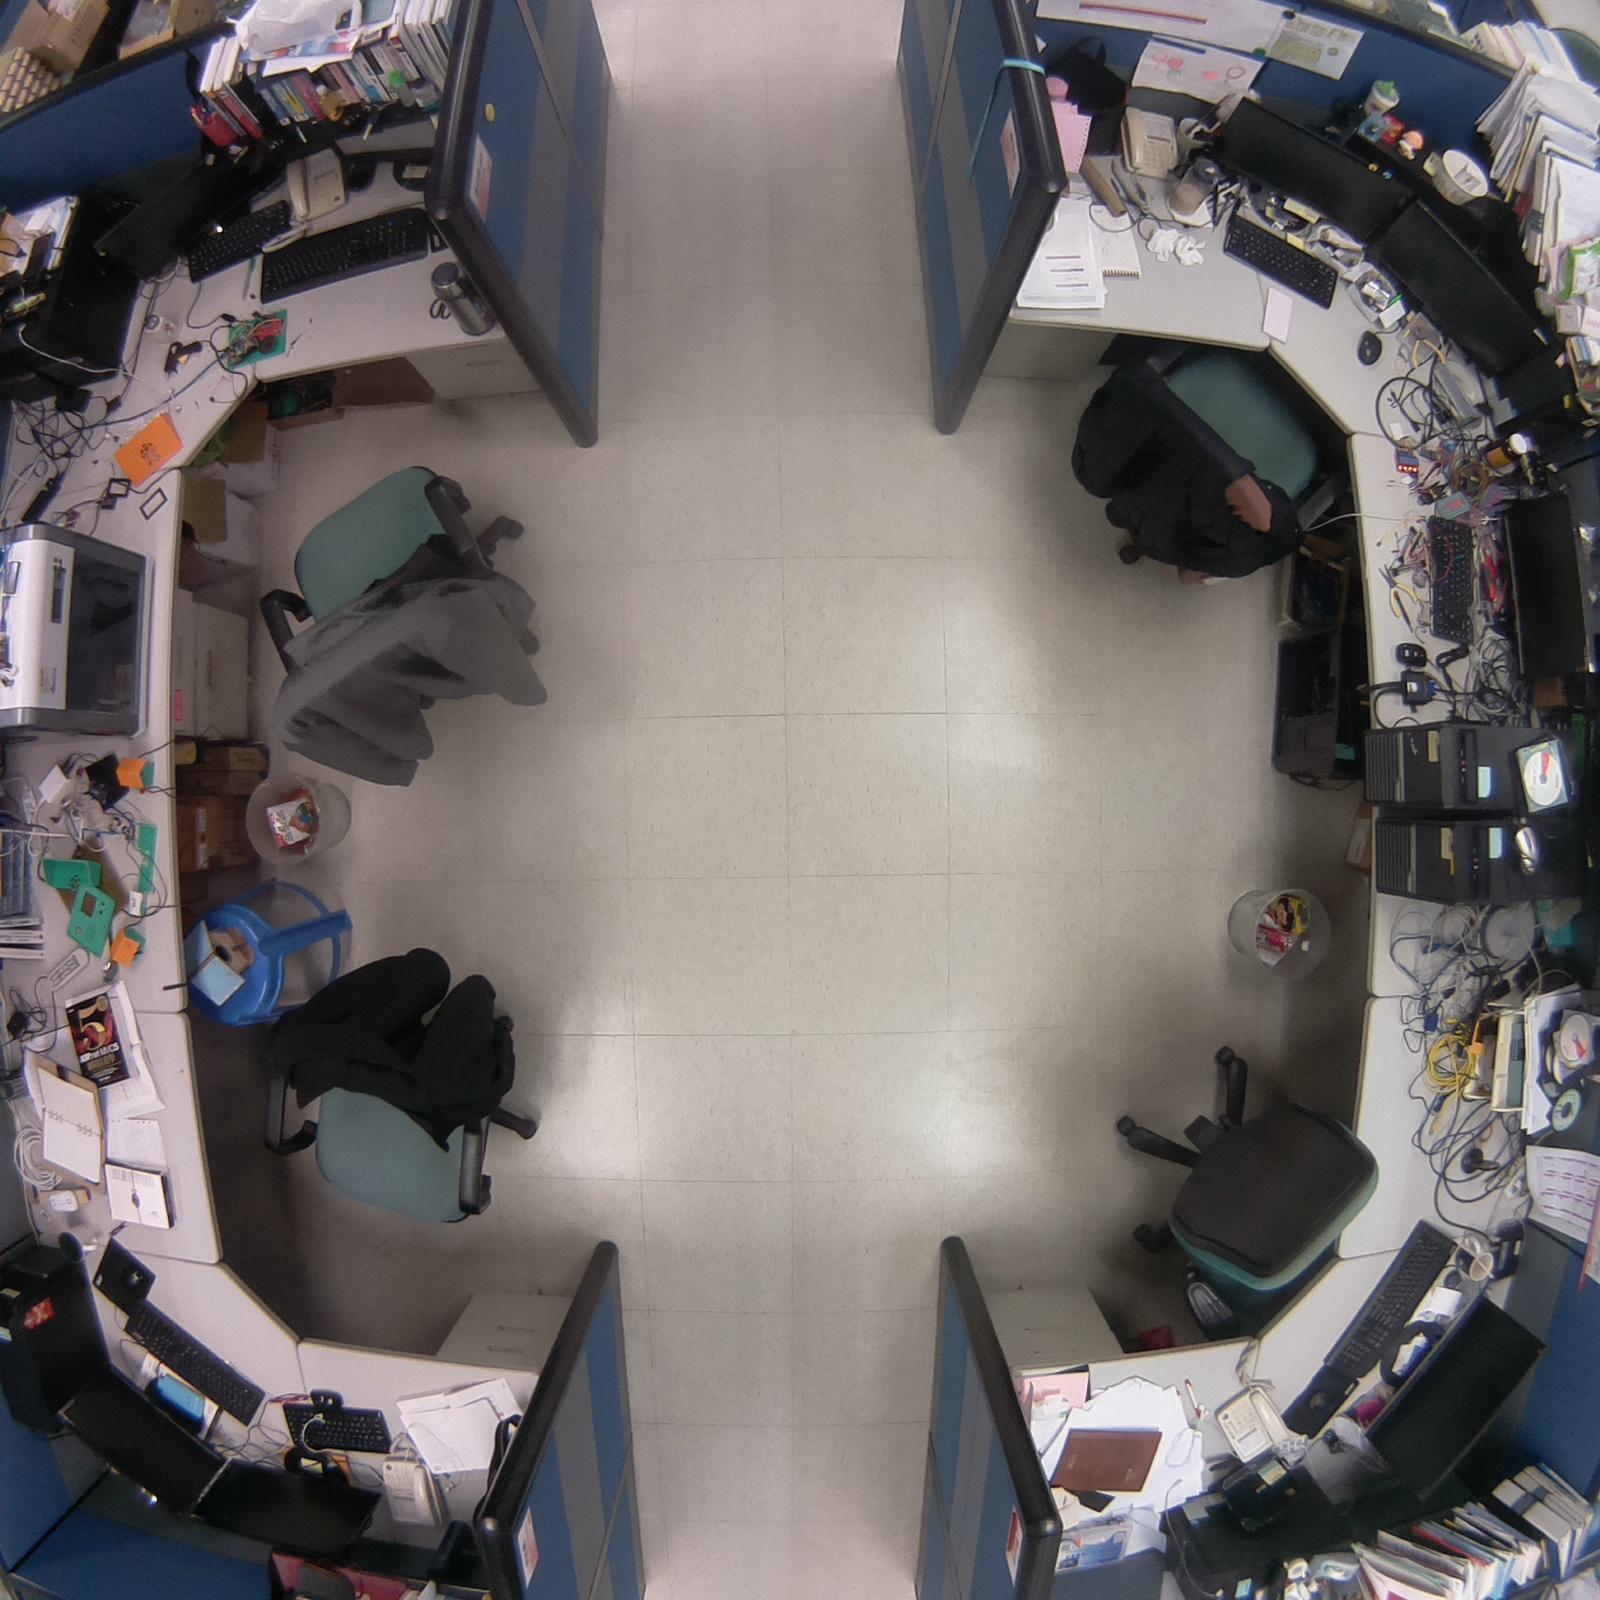chair: (246, 453, 566, 804), (248, 929, 568, 1242), (1090, 1033, 1393, 1352), (1053, 314, 1361, 595)
